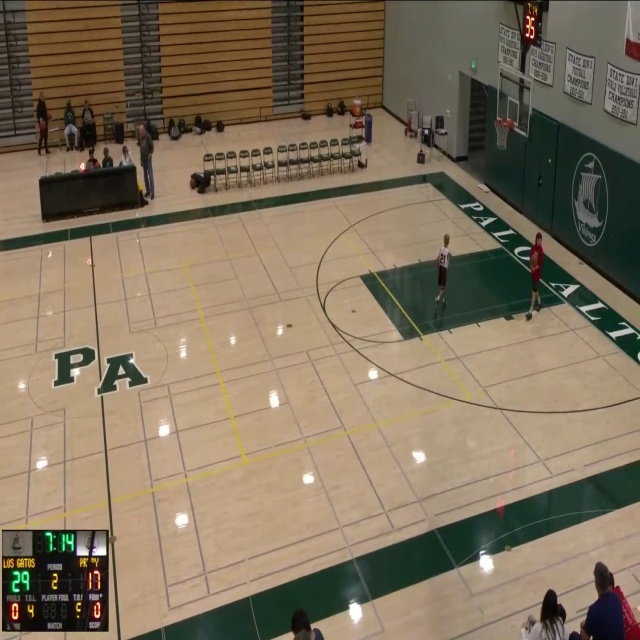Basketball: (530, 253, 539, 268)
